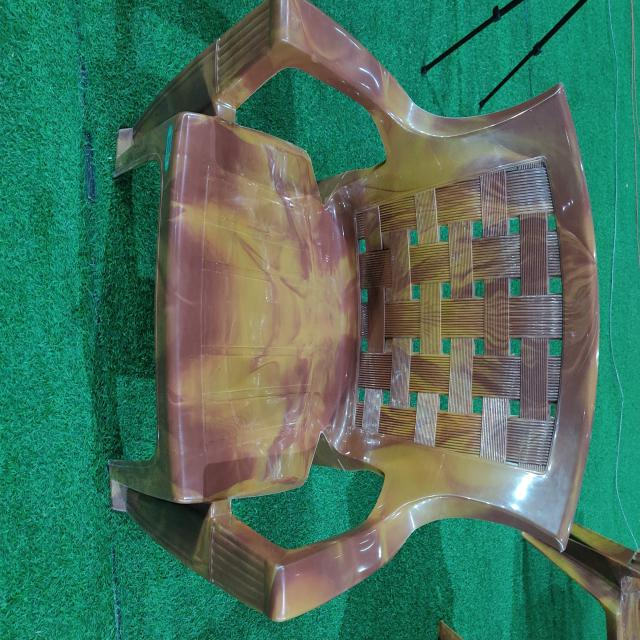Camer Stand: (107, 1, 601, 624)
